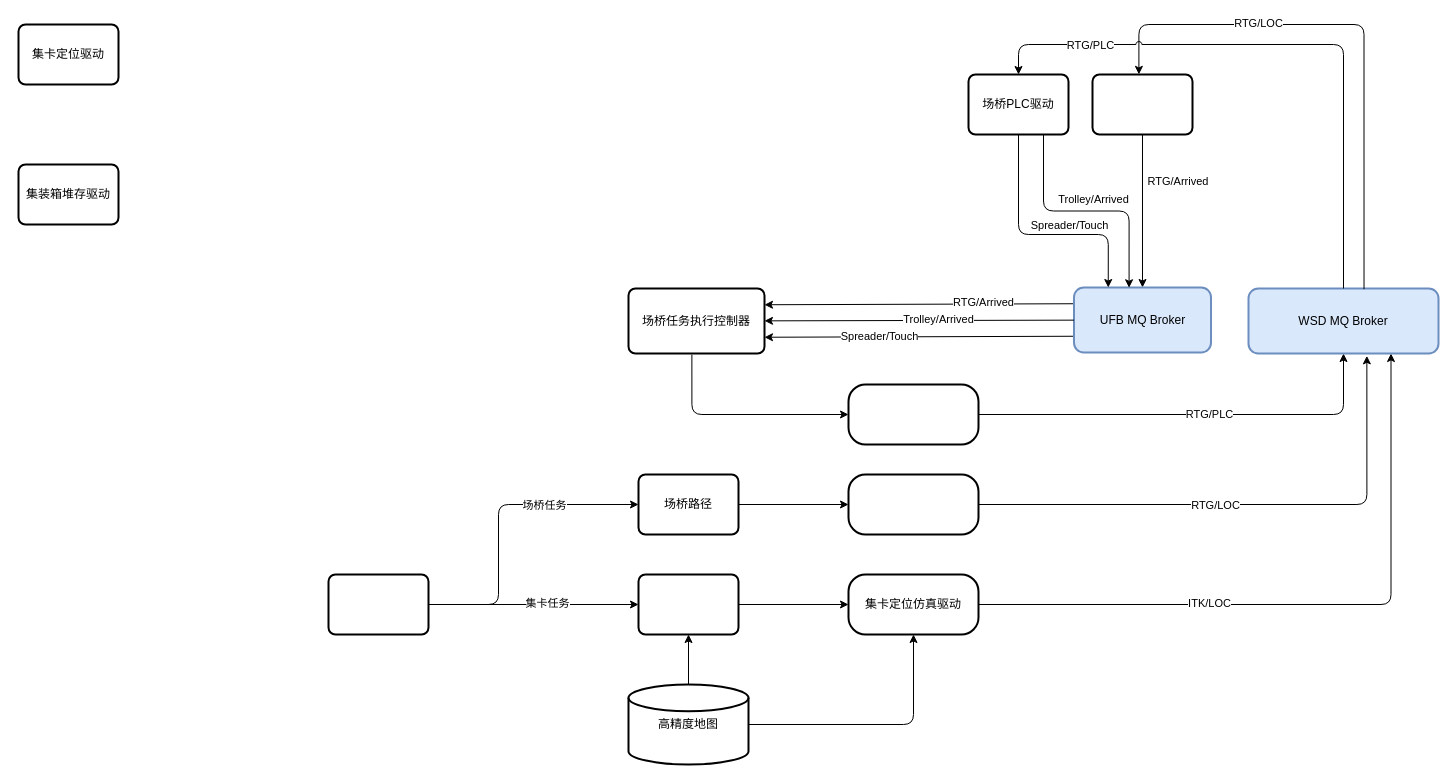
Image size: 1456x783. Some labels were removed from this diagram. Here are the shapes that lost their labels. From the top down, the centre of each, then its label:
At [1142,104]: "场桥定位驱动".
At [913,414]: "场桥PLC仿真驱动".
At [913,504]: "场桥定位仿真驱动".
At [378,604]: "生产任务定义 平台".
At [688,604]: "集卡路径计算".
